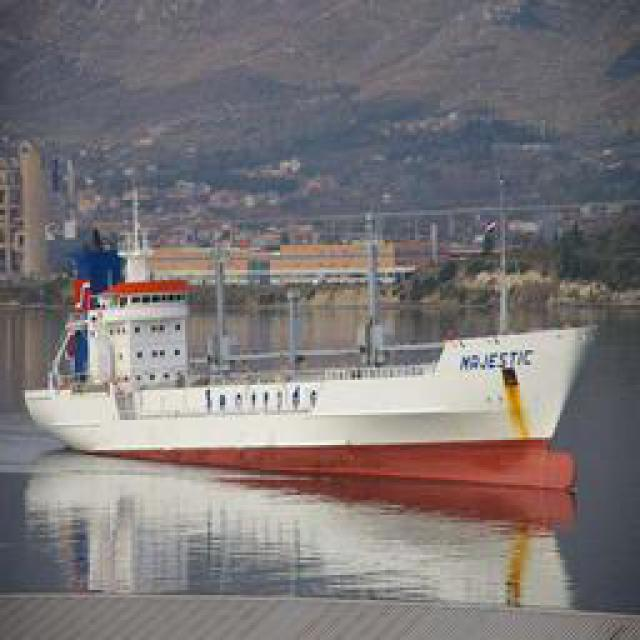Ship: (25, 321, 585, 471)
